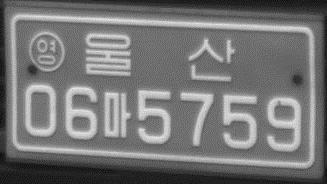0: (23, 83, 57, 138)
5: (135, 87, 173, 146), (220, 93, 258, 150)
6: (64, 83, 98, 140)
7: (177, 90, 216, 148)
9: (266, 95, 303, 153)
마: (102, 90, 131, 140)
영: (28, 31, 66, 73)
울산_D: (83, 31, 236, 83)
